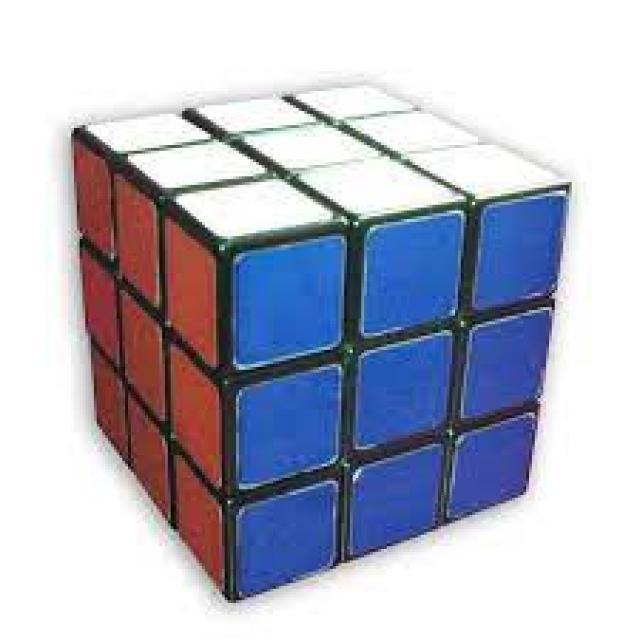Rub: (66, 79, 577, 602)
